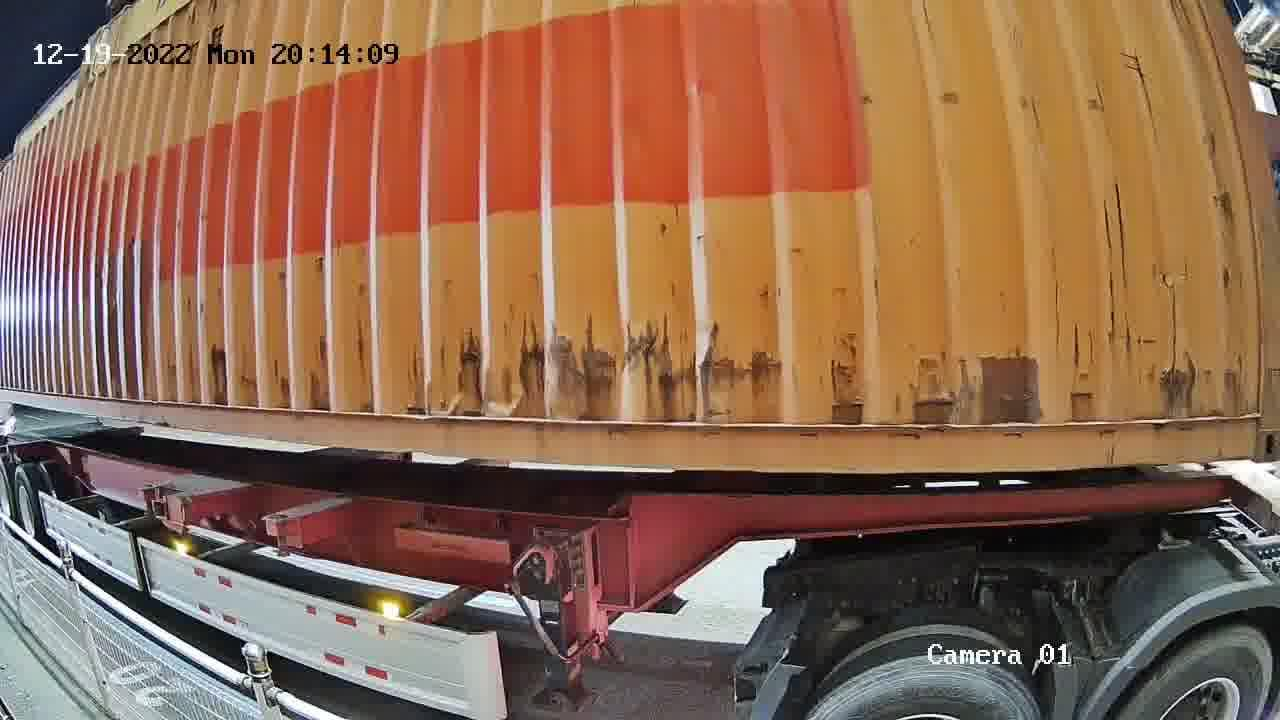Hole_R: (1212, 397, 1279, 459)
Tire: (810, 655, 1042, 713), (1121, 631, 1272, 719)
